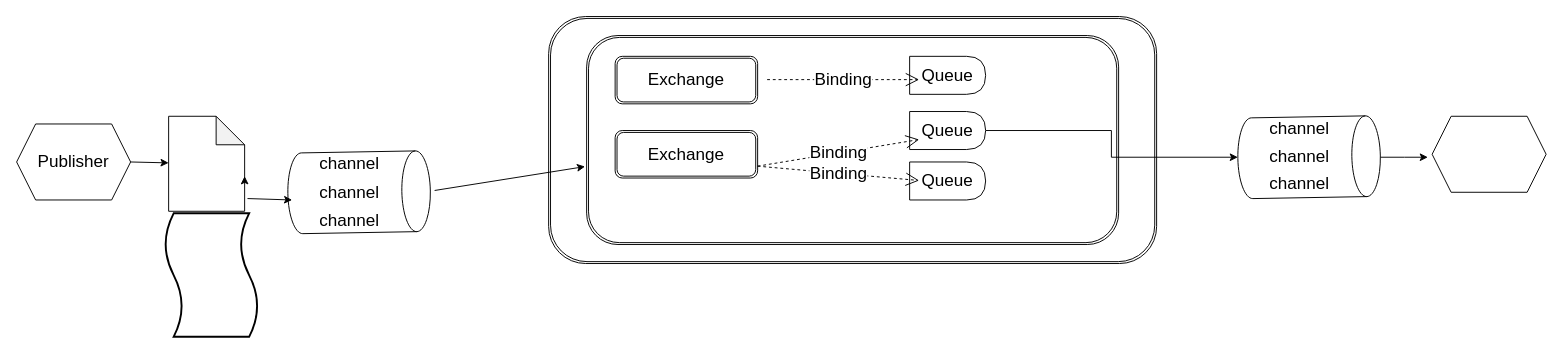
The diagram is 1563 pixels wide and 354 high, and some of its shapes have lost their labels. Each missing label, with the centre of its shape:
Consumer: point (1488, 153)
Message: point (210, 274)
Routing Key: point (206, 163)
